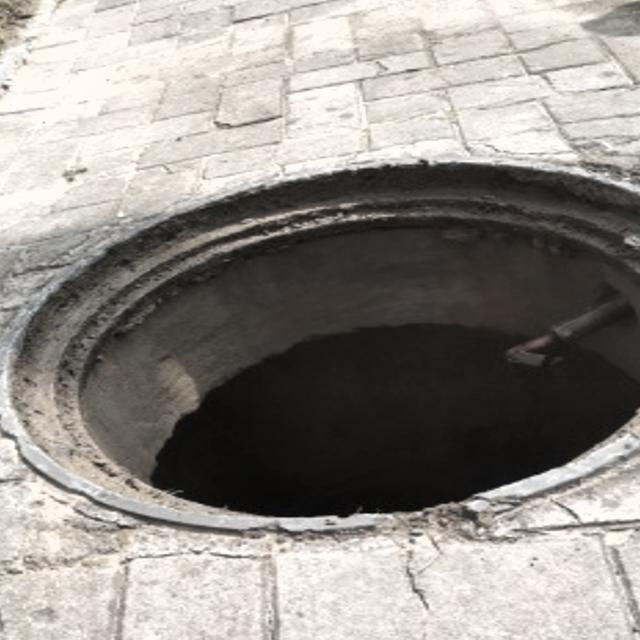lose: (0, 152, 640, 538)
